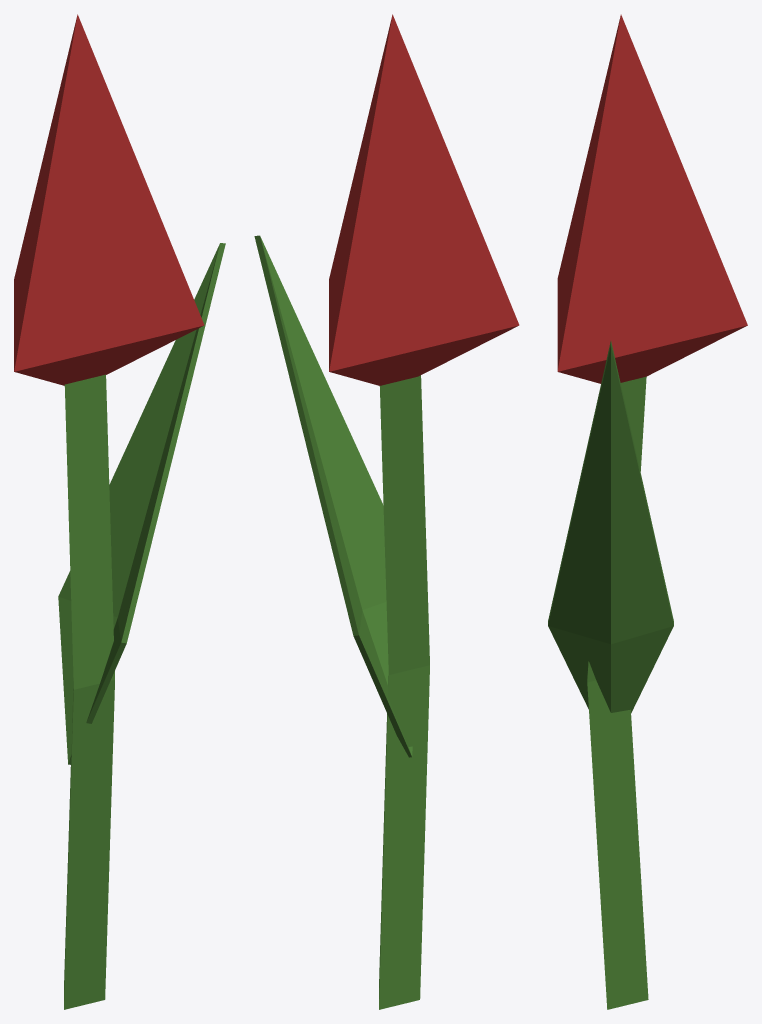
Rendered from Flower_tulip_red_vc.fbx.
3 views of the same model, side by side, from view 1: azimuth 30°, elevation 25°; view 2: azimuth 150°, elevation 25°; view 3: azimuth 270°, elevation 25° (orthographic).
Visible parts, largest first — view 1: Flower_tulip_red_vc; view 2: Flower_tulip_red_vc; view 3: Flower_tulip_red_vc.
Part boxes in pixels (x1=…): Flower_tulip_red_vc: x1=14, y1=14, x2=225, y2=1009; Flower_tulip_red_vc: x1=254, y1=14, x2=519, y2=1009; Flower_tulip_red_vc: x1=548, y1=14, x2=747, y2=1009.
Bounding box in the file's own units: 0.3822 × 1.51 × 0.2777.
